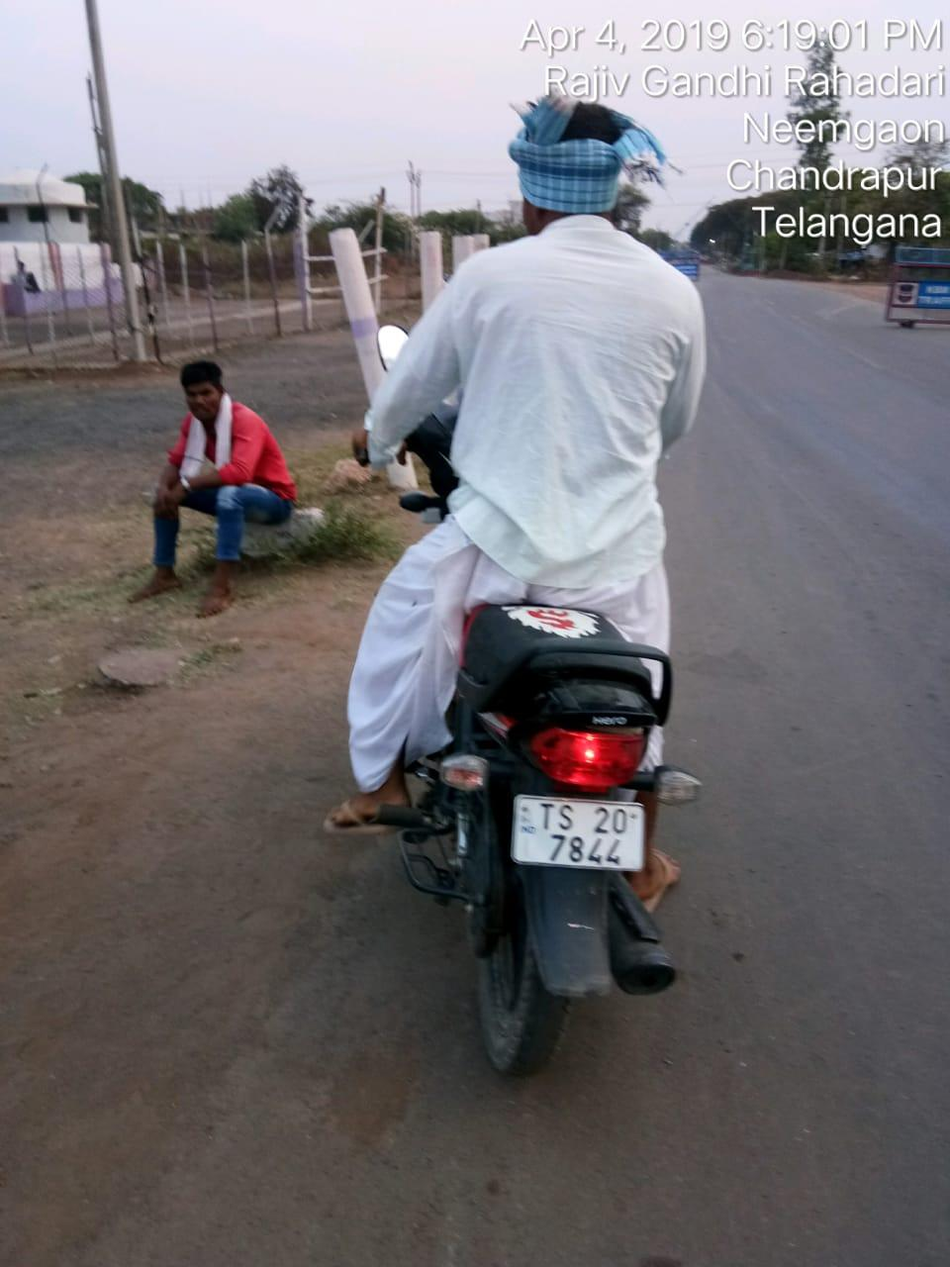plate: (494, 771, 658, 878)
